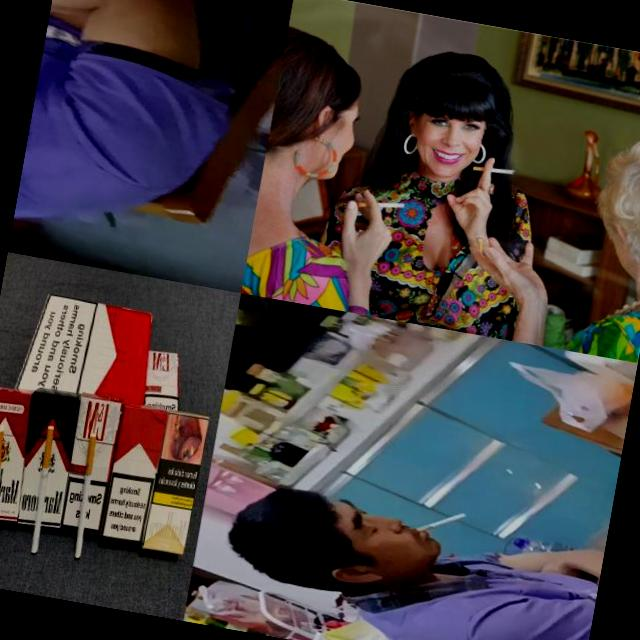cigarette: (25, 424, 59, 554), (68, 434, 102, 558), (0, 427, 19, 553), (414, 505, 466, 540), (355, 194, 405, 215), (471, 162, 516, 178)
